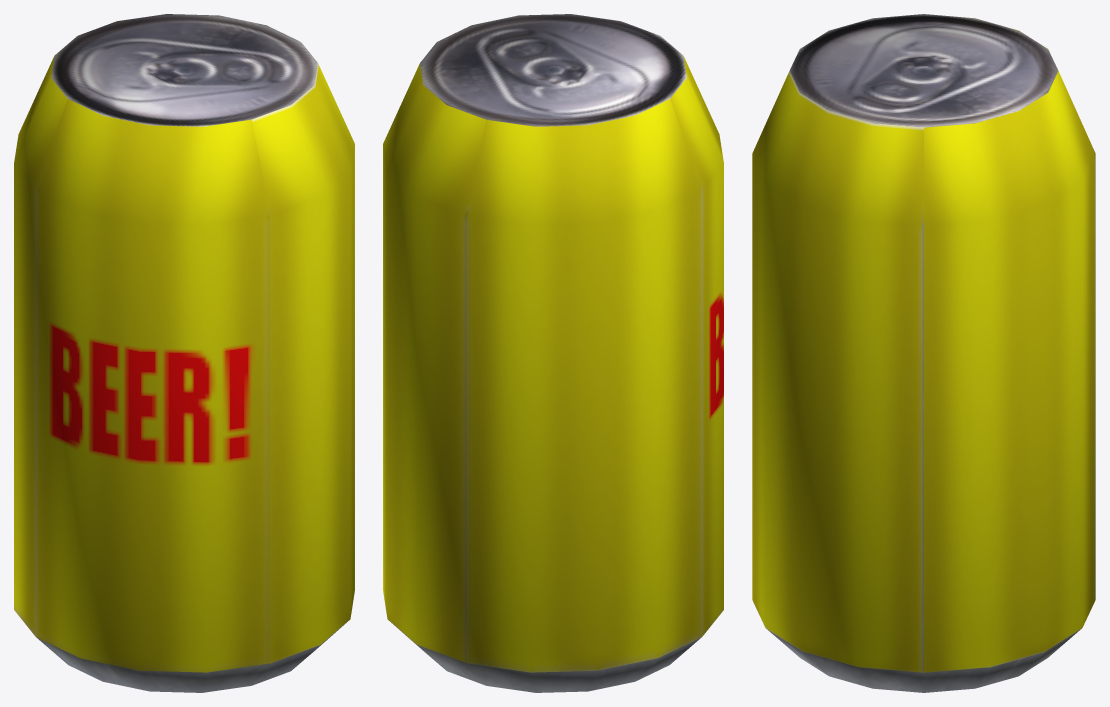
File: beer.fbx
3 views of the same model, side by side, from view 1: azimuth 30°, elevation 25°; view 2: azimuth 150°, elevation 25°; view 3: azimuth 270°, elevation 25° (orthographic).
Parts seen in each view (by area): view 1: beer_can; view 2: beer_can; view 3: beer_can.
Boxes of the visible parts, x1,y1,x2,y2 form: beer_can: (14,14,354,692); beer_can: (383,14,723,692); beer_can: (752,14,1095,692).
Size of the model in its own units: 6.6 by 12 by 6.6.
